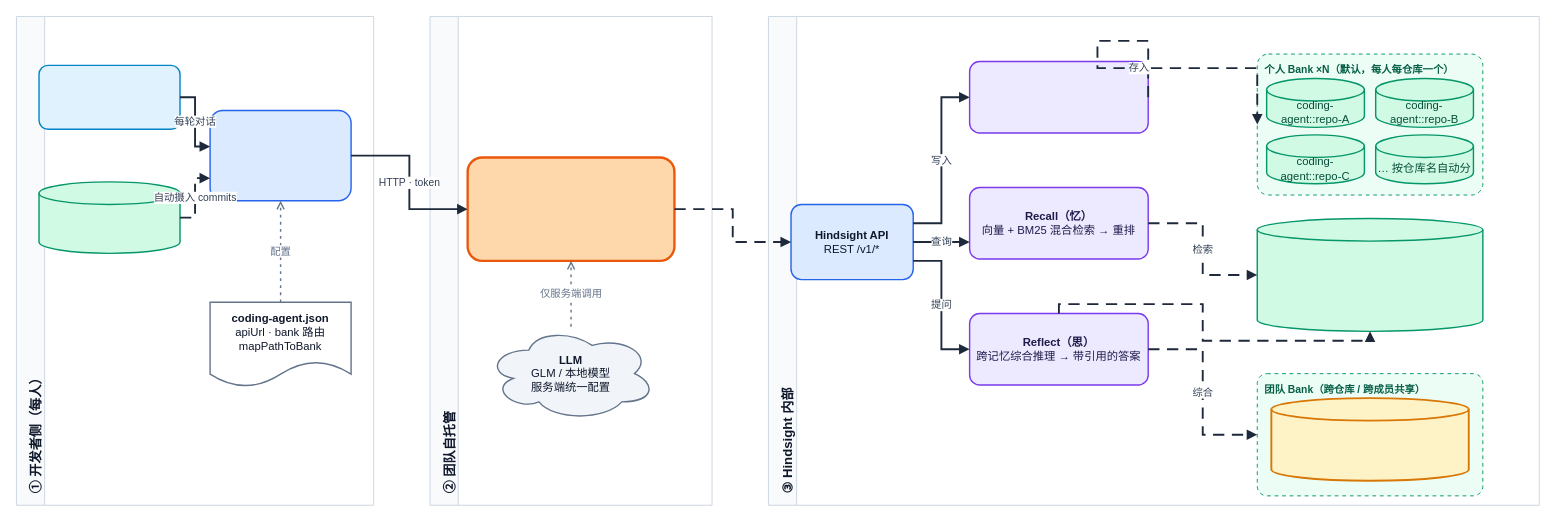
Some shapes in this 1556 by 522 pixel diagram are drawn without their labels. Here are the shapes that lost their labels. From the top down, the centre of each, then its label:
the point at 109,97: Coding Agent
the point at 1058,96: Retain（记） LLM 抽取事实 → 去重合并
the point at 280,155: hindsight-coding-agents 插件（hooks + MCP）
the point at 109,217: 代码仓库 git 提交历史 / diff
the point at 570,209: Hindsight 服务 Docker / K8s · Postgres 内网 · 统一鉴权
the point at 1369,274: Knowledge Bank 规范 / 手册 / 架构文档 原样保留，不经过 LLM
the point at 1369,439: team::platform 产品线公共决策 · 约定 · 教训
